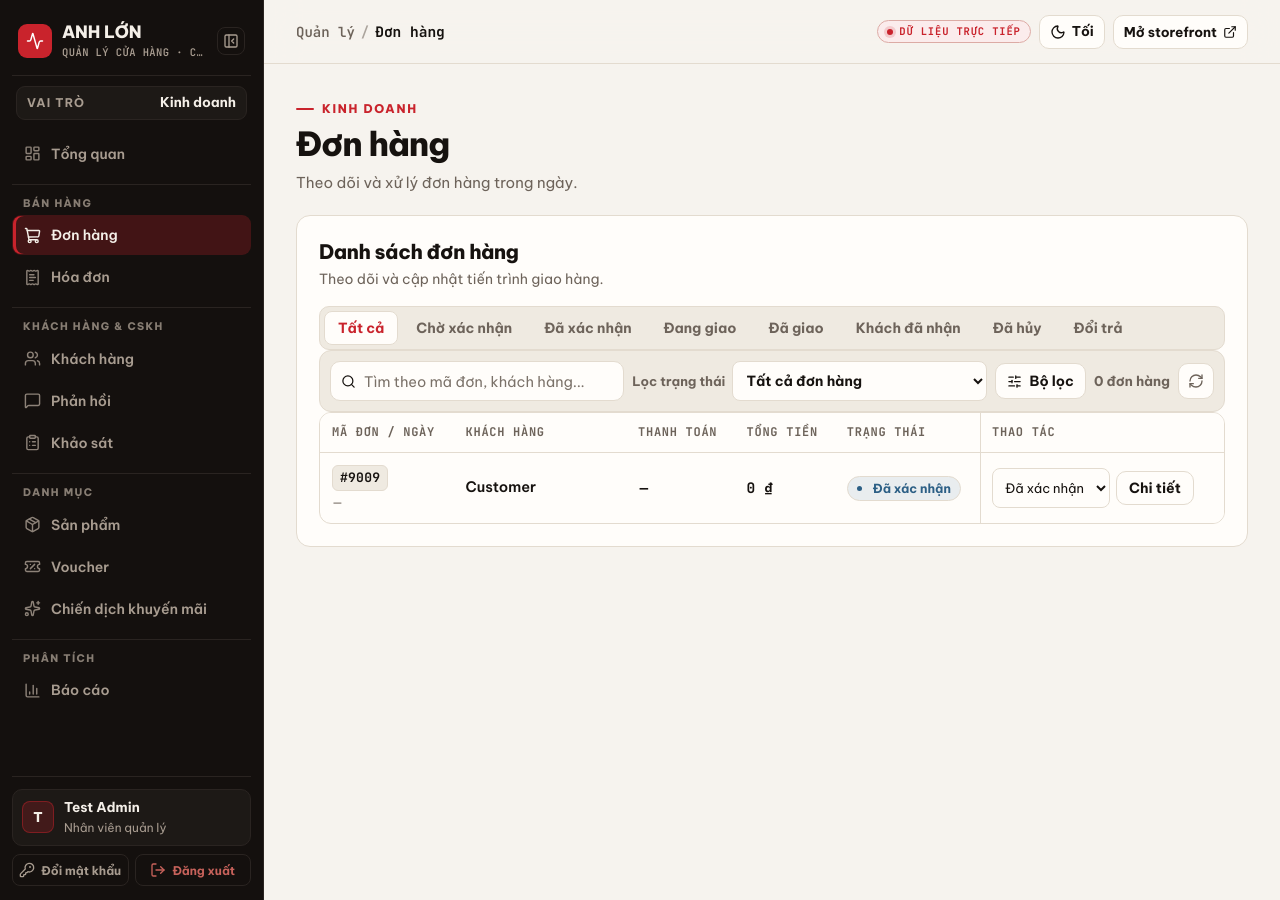
Test: manager navigation › requires a cancellation reason, preserves it on failure and confirms before sending
The width and height of the screenshot is (1280, 900).
Select "Đã hủy" in the dropdown named "Cập nhật trạng thái đơn 9009" at (1051, 488), box top-left (992, 468), bottom-right (1110, 508)
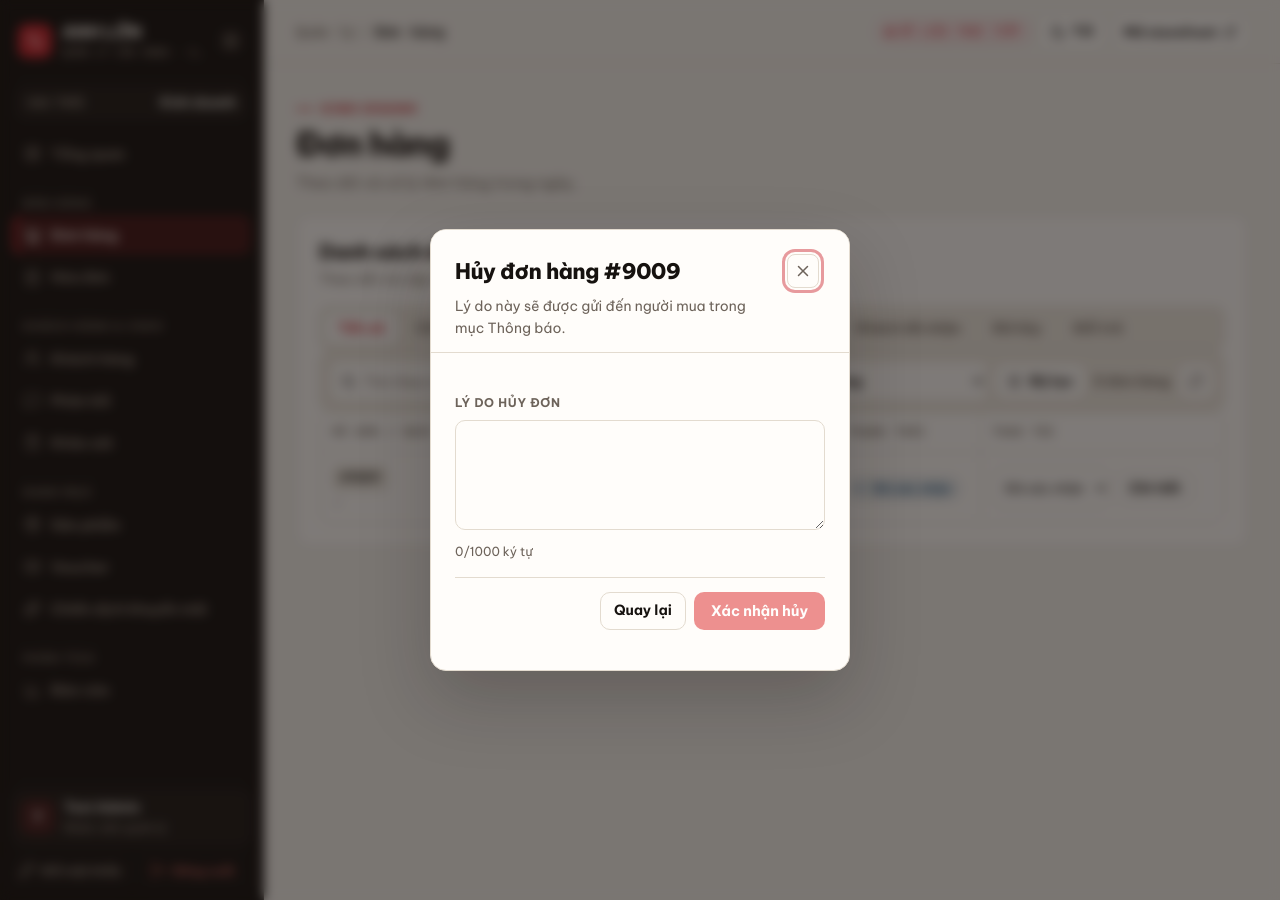
Check: the button "Xác nhận hủy" is disabled, box top-left (694, 592), bottom-right (825, 630)
Click the button "Quay lại" at (643, 611), box top-left (600, 592), bottom-right (686, 630)
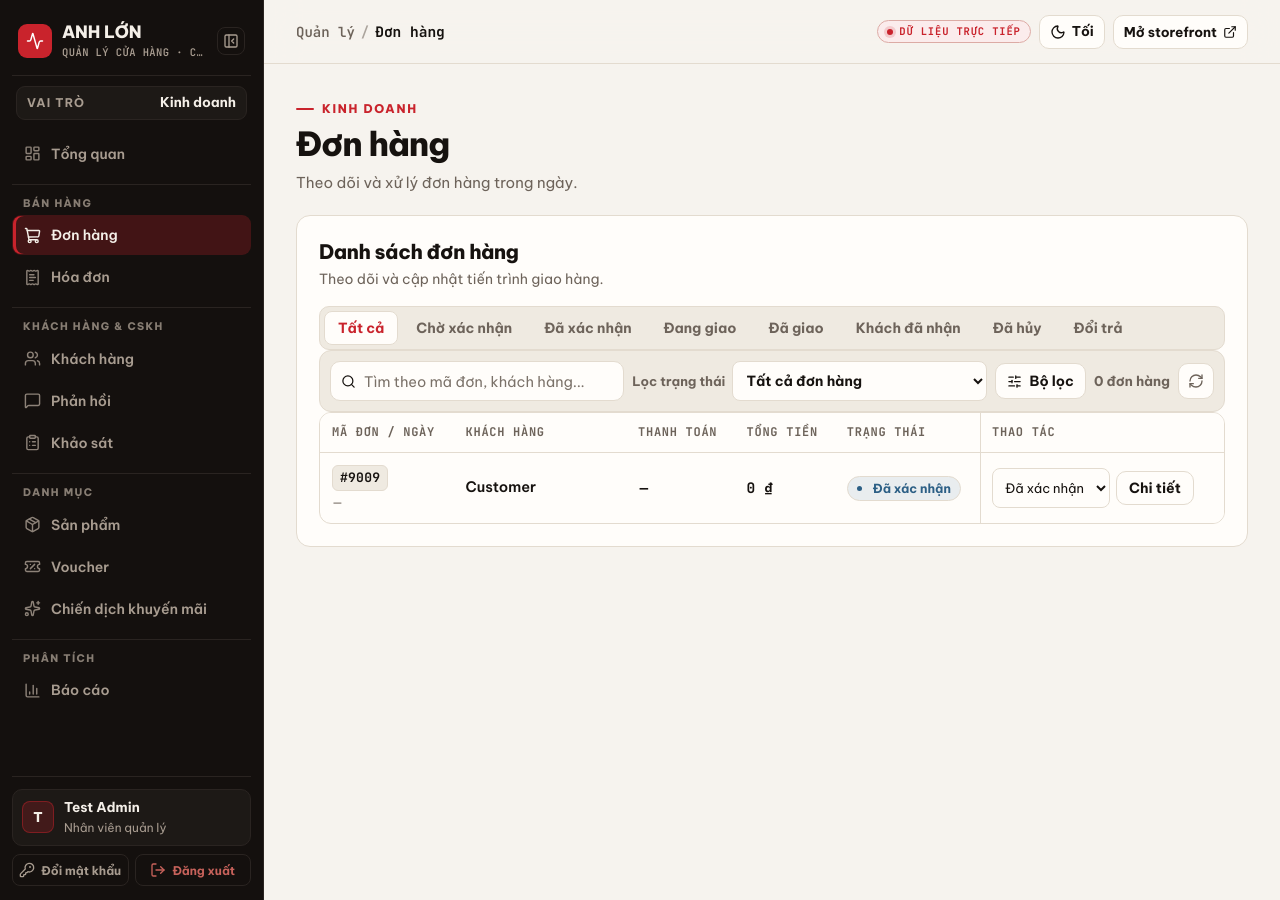
Check: the dialog is gone
Select "Đã hủy" in the dropdown named "Cập nhật trạng thái đơn 9009" at (1051, 488), box top-left (992, 468), bottom-right (1110, 508)
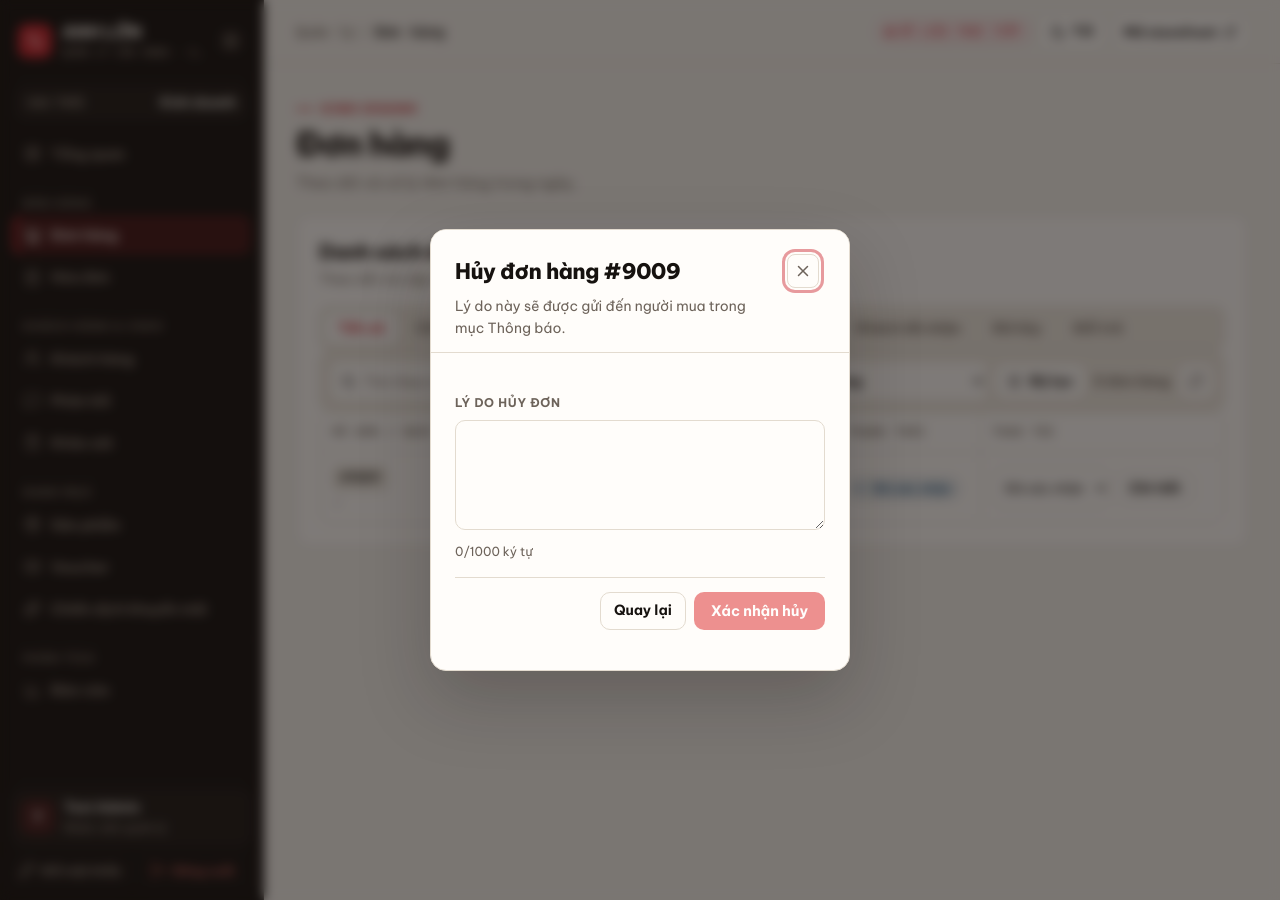
Type " Hết hàng " into the text box labelled "Lý do hủy đơn" at (640, 475), box top-left (455, 420), bottom-right (825, 530)
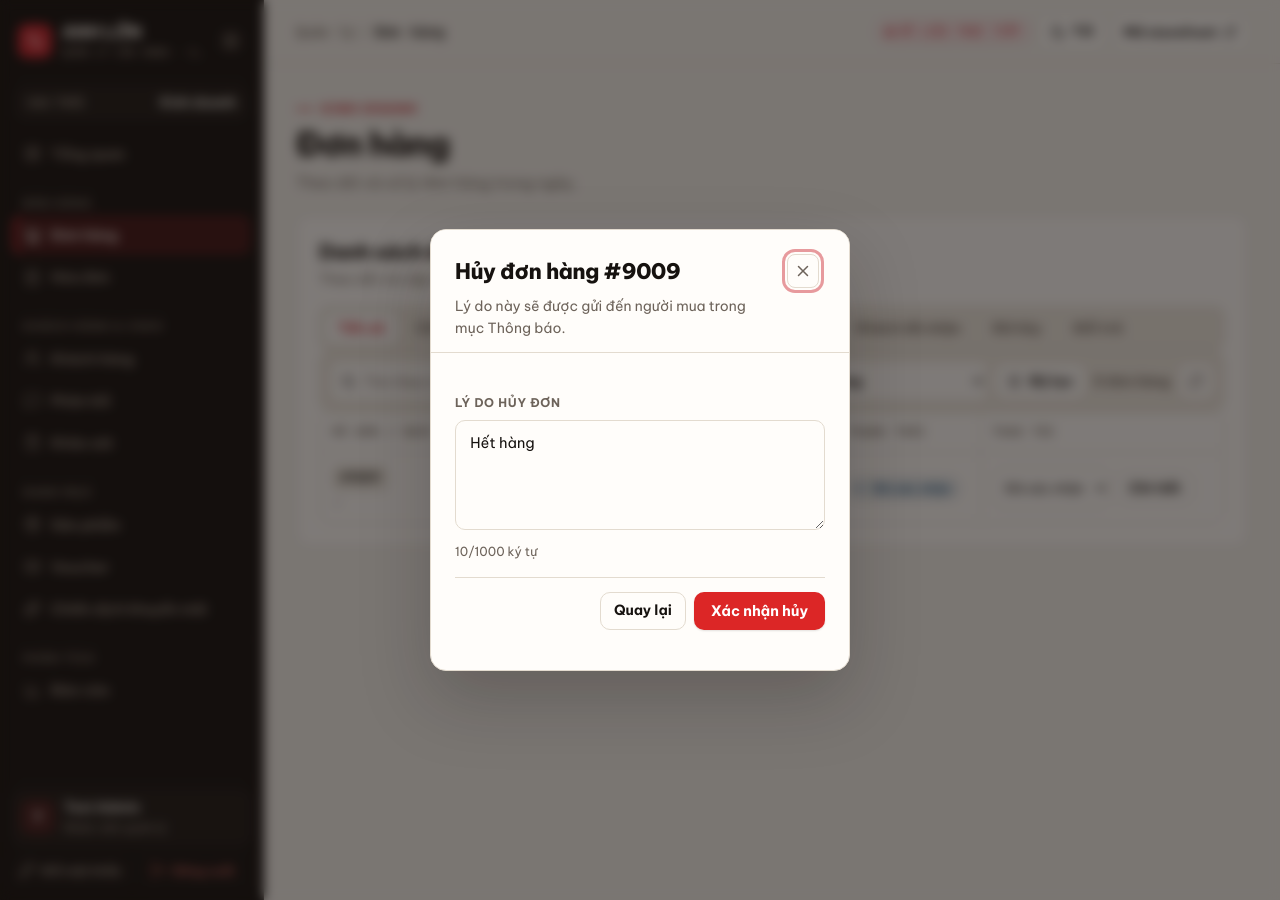
Click the button "Xác nhận hủy" at (759, 611), box top-left (694, 592), bottom-right (825, 630)
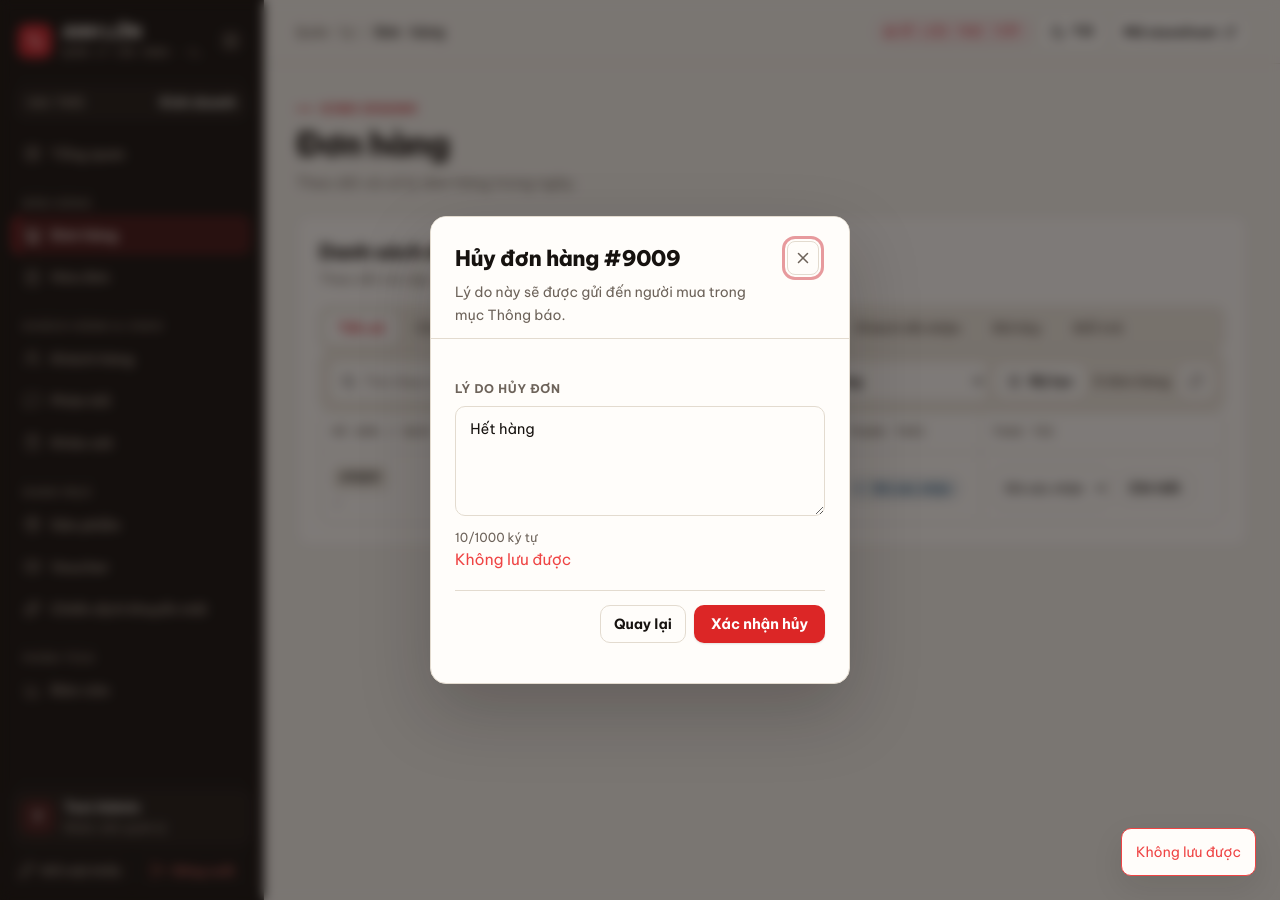
Check: the message "Không lưu được" is shown, box top-left (455, 549), bottom-right (571, 569)
